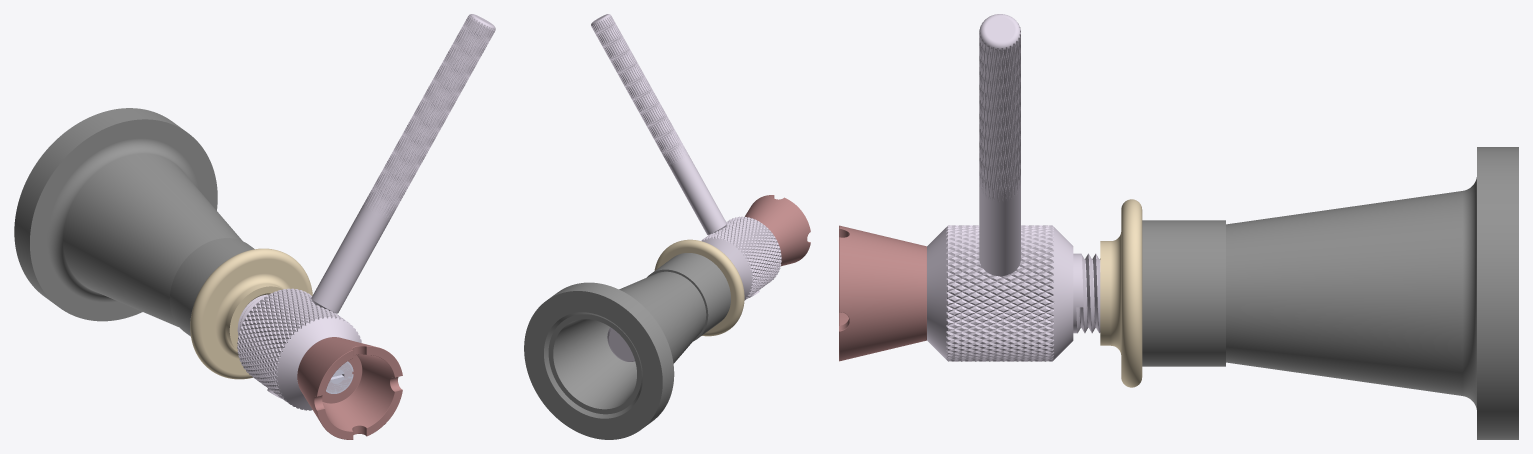
The model's file is Screwjackassembly.glb.
3 views of the same model, side by side, from view 1: azimuth 30°, elevation 25°; view 2: azimuth 150°, elevation 25°; view 3: azimuth 270°, elevation 25° (orthographic). The views are drawn at different scales.
Parts seen in each view (by area): view 1: 01 PART BODY SCREW JACK ASSEBLY_InstanceRep, Part1_InstanceRep, spindal_InstanceRep, 02 nut_InstanceRep, cup_InstanceRep; view 2: 01 PART BODY SCREW JACK ASSEBLY_InstanceRep, Part1_InstanceRep, spindal_InstanceRep, cup_InstanceRep, 02 nut_InstanceRep; view 3: 01 PART BODY SCREW JACK ASSEBLY_InstanceRep, spindal_InstanceRep, Part1_InstanceRep, cup_InstanceRep, 02 nut_InstanceRep.
Part boxes in pixels (left/top/right/bottom): 01 PART BODY SCREW JACK ASSEBLY_InstanceRep: left=14, top=108, right=254, bottom=336; Part1_InstanceRep: left=267, top=14, right=495, bottom=398; spindal_InstanceRep: left=237, top=288, right=361, bottom=410; 02 nut_InstanceRep: left=190, top=248, right=312, bottom=379; cup_InstanceRep: left=297, top=337, right=402, bottom=439; 01 PART BODY SCREW JACK ASSEBLY_InstanceRep: left=524, top=253, right=730, bottom=439; Part1_InstanceRep: left=591, top=14, right=759, bottom=297; spindal_InstanceRep: left=607, top=216, right=781, bottom=361; cup_InstanceRep: left=745, top=195, right=810, bottom=266; 02 nut_InstanceRep: left=654, top=239, right=744, bottom=336; 01 PART BODY SCREW JACK ASSEBLY_InstanceRep: left=1142, top=147, right=1518, bottom=439; spindal_InstanceRep: left=927, top=225, right=1100, bottom=361; Part1_InstanceRep: left=979, top=14, right=1020, bottom=276; cup_InstanceRep: left=839, top=225, right=926, bottom=361; 02 nut_InstanceRep: left=1100, top=199, right=1142, bottom=387.
Bounding box in the file's own units: 0.2138 × 0.2773 × 0.3248.
